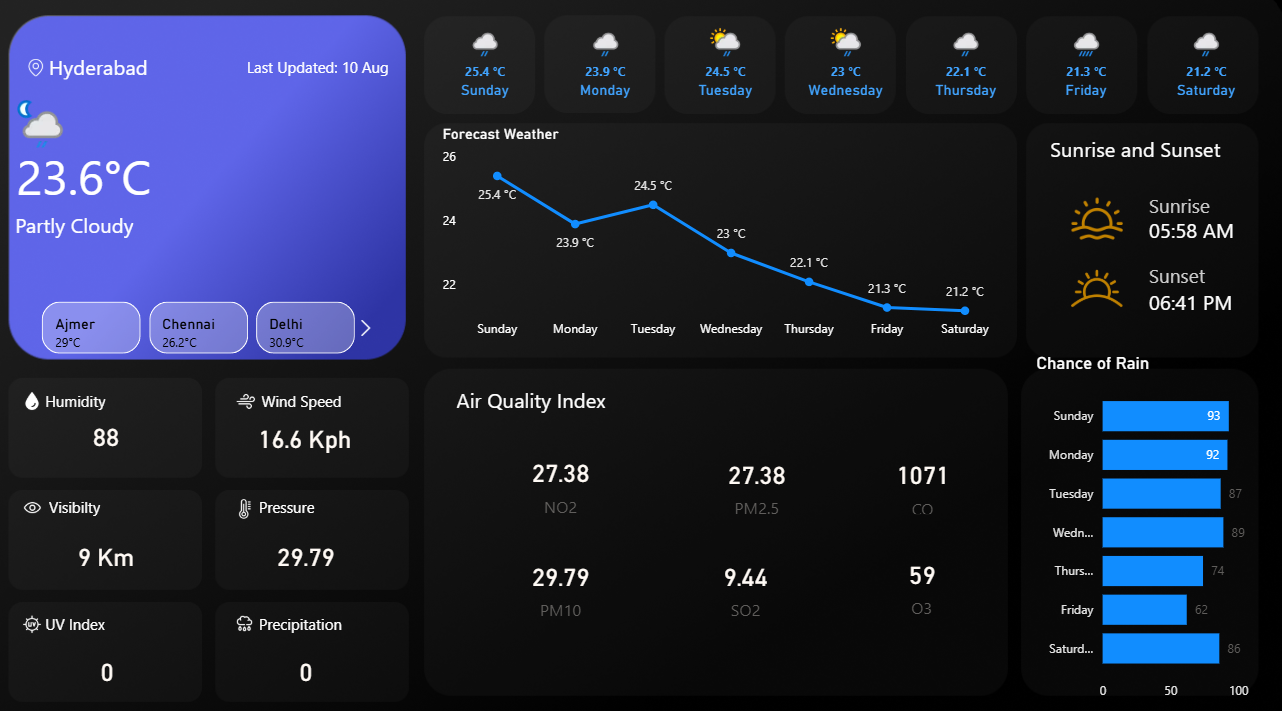

This screenshot's page, from the dashboard's own definition file:
{"tool":"powerbi","page":{"name":"Page 1","canvas":[1280,720],"ordinal":0},"visuals":[{"type":"advancedSlicerVisual","fields":{"Values":["Locations.location.name"]},"box":[31.6,297.8,358.1,61.7],"z":0},{"type":"shape","box":[32.5,130,178.8,97.5],"z":1000},{"type":"shape","box":[31.2,178.8,178.8,97.5],"z":2000},{"type":"shape","box":[63.8,23.8,178.8,97.5],"z":3000},{"type":"shape","box":[211.2,60,186.2,25],"z":4000},{"type":"image","box":[36.2,60,27.5,26.2],"z":5000},{"type":"cardVisual","fields":{"Data":["Min(Current.current.condition.icon)"]},"box":[0,85,107.5,72.5],"z":6000},{"type":"image","box":[32.9,387,28,28],"z":6001},{"type":"image","box":[241.5,387,30,29],"z":6002},{"type":"image","box":[33.3,491.1,28.9,28.9],"z":6003},{"type":"image","box":[241.5,492.6,29,29],"z":6004},{"type":"image","box":[32.9,605.1,28,29],"z":6005},{"type":"image","box":[241.5,605.1,28,28],"z":6006},{"type":"shape","box":[60,352.5,192.5,97.5],"z":6007},{"type":"shape","box":[271.8,351.8,192.7,97.3],"z":6008},{"type":"shape","box":[63.8,456.2,192.5,97.5],"z":6009},{"type":"shape","box":[270,456.2,192.5,97.5],"z":6010},{"type":"shape","box":[60,570,192.7,97.3],"z":6011},{"type":"shape","box":[270,570,192.7,97.3],"z":6012},{"type":"card","fields":{"Values":["Sum(Current.current.humidity)"]},"box":[46,399,149,73],"z":6013},{"type":"card","fields":{"Values":["_Measures.Wind_Speed"]},"box":[241,401,149,73],"z":6014},{"type":"card","fields":{"Values":["_Measures.Visibility"]},"box":[46,517,149,73],"z":6015},{"type":"card","fields":{"Values":["Sum(Current.current.pressure_in)"]},"box":[241.1,516.7,148.9,73.3],"z":6016},{"type":"card","fields":{"Values":["Sum(Current.current.precip_mm)"]},"box":[241.1,630,148.9,73.3],"z":6017},{"type":"card","fields":{"Values":["Sum(Current.current.uv)"]},"box":[47,630,149,73],"z":6018},{"type":"advancedSlicerVisual","fields":{"Values":["Forecast_day.Day_Name"]},"box":[431.7,23.3,828.3,98.3],"z":6019},{"type":"lineChart","title":"Forecast Weather","fields":{"Y":["Sum(Forecast_day.forecast.forecastday.day.avgtemp_c)"],"Category":["Forecast_day.Day_Name"]},"box":[445,130,553.3,218.3],"z":6020},{"type":"shape","box":[1046.7,126.7,170,51.7],"z":6021},{"type":"shape","box":[1143.7,207.3,113.3,50],"z":6022},{"type":"shape","box":[1143.7,277.3,113.3,50],"z":6023},{"type":"shape","box":[1143.7,182.3,113.3,50],"z":6024},{"type":"shape","box":[1143.3,251.7,113.3,50],"z":6025},{"type":"image","box":[998.3,251.7,186.7,76.7],"z":6026},{"type":"image","box":[1028.3,191.7,128.3,60],"z":6027},{"type":"barChart","title":"Chance of Rain","fields":{"Category":["Forecast_day.Day_Name"],"Y":["Sum(Forecast_day.forecast.forecastday.day.daily_chance_of_rain)"]},"box":[1028.3,353.3,228.3,350],"z":6028},{"type":"shape","box":[463.3,373.3,170,51.7],"z":6029},{"type":"card","fields":{"Values":["Sum(Current.current.air_quality.co)"]},"box":[870,451.7,103.3,65],"z":6030},{"type":"card","fields":{"Values":["Sum(Current.current.air_quality.no2)"]},"box":[491.7,445,148.3,73.3],"z":6031},{"type":"card","fields":{"Values":["Sum(Current.current.air_quality.o3)"]},"box":[846.7,545,148.3,73.3],"z":6032},{"type":"card","fields":{"Values":["Sum(Current.current.air_quality.pm10)"]},"box":[491.7,546.7,148.3,73.3],"z":6033},{"type":"card","fields":{"Values":["Sum(Current.current.air_quality.so2)"]},"box":[673.3,546.7,148.3,73.3],"z":6034},{"type":"card","fields":{"Values":["Sum(Current.current.air_quality.pm2_5)"]},"box":[685,446.7,148.3,73.3],"z":6035}]}

Visuals, with their boxes in screenshot pixels (x1, y1, x2, y2), scaled from the page's 1280x720 canvas onto the 1282x711 screenshot:
advancedSlicerVisual - Locations.location.name: (32, 294, 390, 355)
shape: (33, 128, 212, 225)
shape: (31, 177, 210, 273)
shape: (64, 24, 243, 120)
shape: (212, 59, 398, 84)
image: (36, 59, 64, 85)
cardVisual - Min(Current.current.condition.icon): (0, 84, 108, 156)
image: (33, 382, 61, 410)
image: (242, 382, 272, 411)
image: (33, 485, 62, 514)
image: (242, 486, 271, 515)
image: (33, 598, 61, 626)
image: (242, 598, 270, 625)
shape: (60, 348, 253, 444)
shape: (272, 347, 465, 443)
shape: (64, 450, 257, 547)
shape: (270, 450, 463, 547)
shape: (60, 563, 253, 659)
shape: (270, 563, 463, 659)
card - Sum(Current.current.humidity): (46, 394, 195, 466)
card - _Measures.Wind_Speed: (241, 396, 391, 468)
card - _Measures.Visibility: (46, 511, 195, 583)
card - Sum(Current.current.pressure_in): (241, 510, 391, 583)
card - Sum(Current.current.precip_mm): (241, 622, 391, 695)
card - Sum(Current.current.uv): (47, 622, 196, 694)
advancedSlicerVisual - Forecast_day.Day_Name: (432, 23, 1262, 120)
"Forecast Weather" lineChart: (446, 128, 1000, 344)
shape: (1048, 125, 1219, 176)
shape: (1145, 205, 1259, 254)
shape: (1145, 274, 1259, 323)
shape: (1145, 180, 1259, 229)
shape: (1145, 249, 1259, 298)
image: (1000, 249, 1187, 324)
image: (1030, 189, 1158, 249)
"Chance of Rain" barChart: (1030, 349, 1259, 695)
shape: (464, 369, 634, 420)
card - Sum(Current.current.air_quality.co): (871, 446, 975, 510)
card - Sum(Current.current.air_quality.no2): (492, 439, 641, 512)
card - Sum(Current.current.air_quality.o3): (848, 538, 997, 611)
card - Sum(Current.current.air_quality.pm10): (492, 540, 641, 612)
card - Sum(Current.current.air_quality.so2): (674, 540, 823, 612)
card - Sum(Current.current.air_quality.pm2_5): (686, 441, 835, 514)
